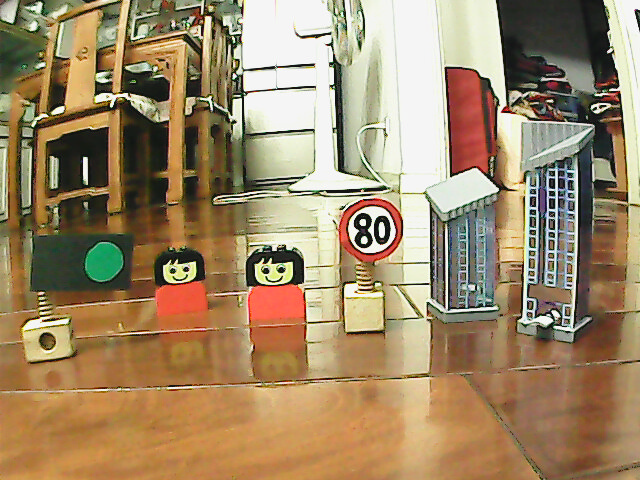Green Traffic Light: (75, 235, 130, 289)
Person: (243, 241, 309, 330), (149, 244, 211, 317)
Speed Limit 80: (336, 194, 406, 264)
